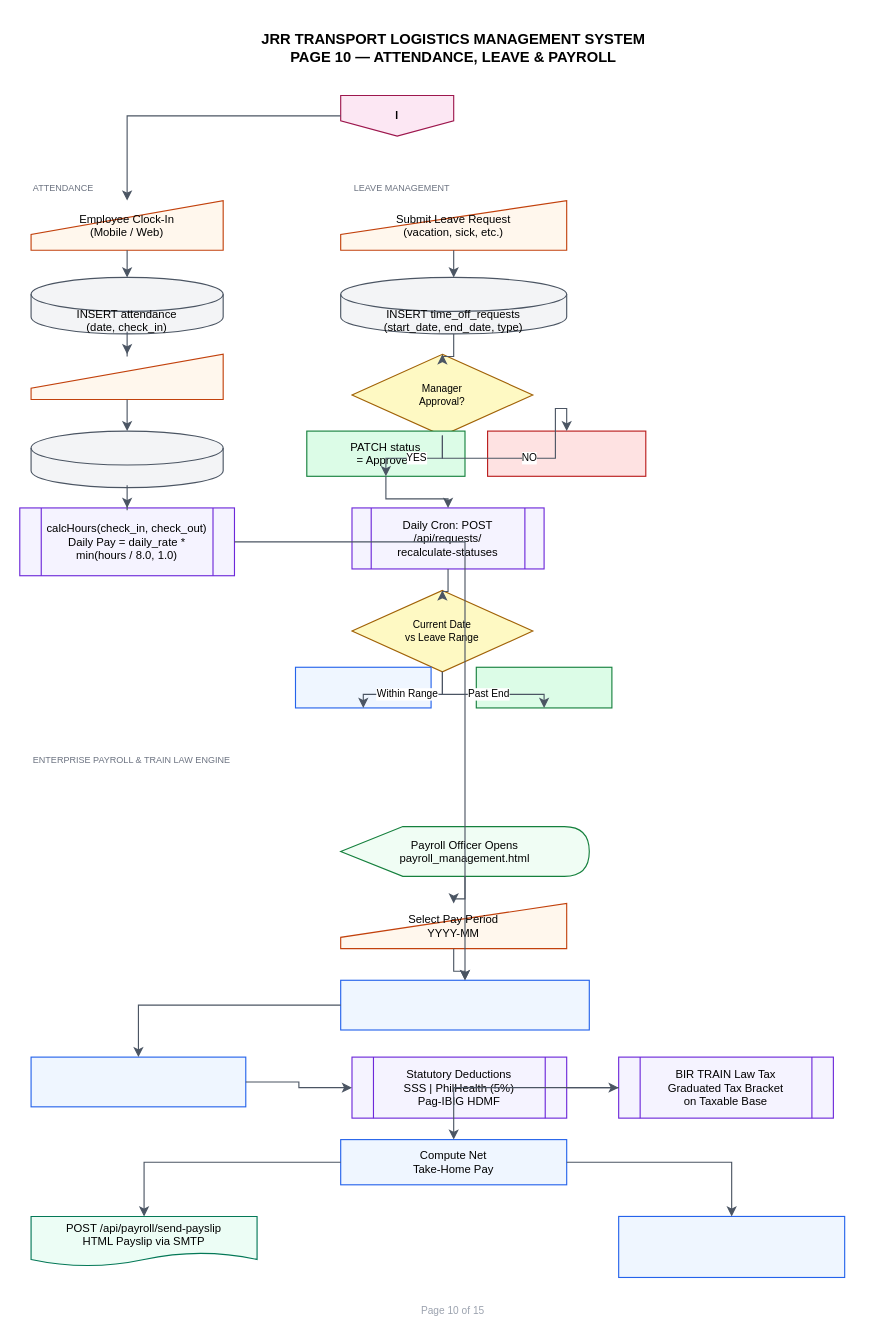
Image size: 869x1342. Some labels were removed from this diagram. The shapes that lost their labels are listed below. From the top down, each one's centre as x and y in pixels, then its label:
pixel 126 376: Employee Clock-Out
pixel 126 459: UPDATE attendance (check_out)
pixel 566 453: PATCH status = Denied
pixel 362 687: status = Ongoing
pixel 543 687: status = Completed
pixel 464 1004: GET /api/payroll/monthly-all Aggregate Attendance Data
pixel 138 1081: Compute Gross Pay Sum of Daily Earned Amounts
pixel 731 1246: POST /api/payroll/finalize INSERT paychecks (status=paid) Notify Employees
